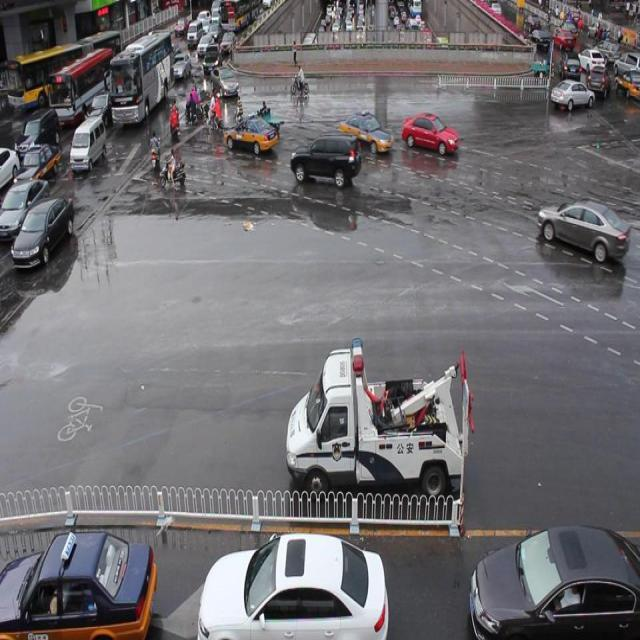bus: (285, 338, 464, 498)
car: (537, 196, 627, 264), (399, 110, 458, 156), (338, 109, 392, 154), (223, 114, 277, 154), (213, 64, 238, 100)
truck: (289, 129, 361, 190)
